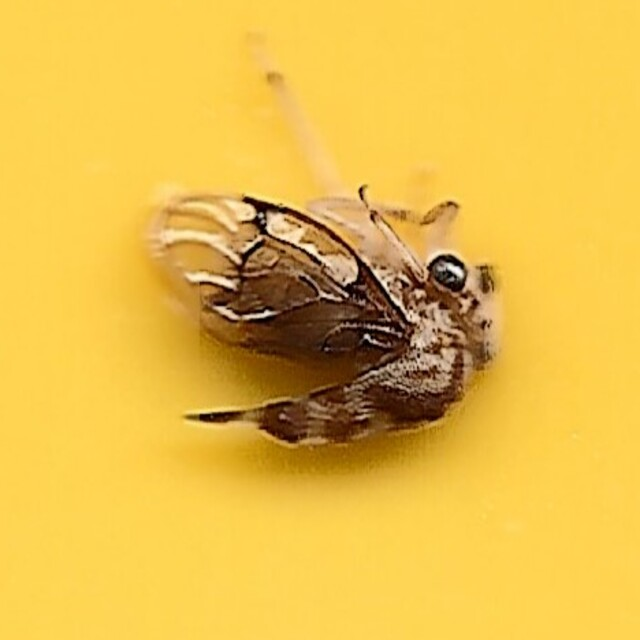Hemiptera: (137, 174, 503, 466)
